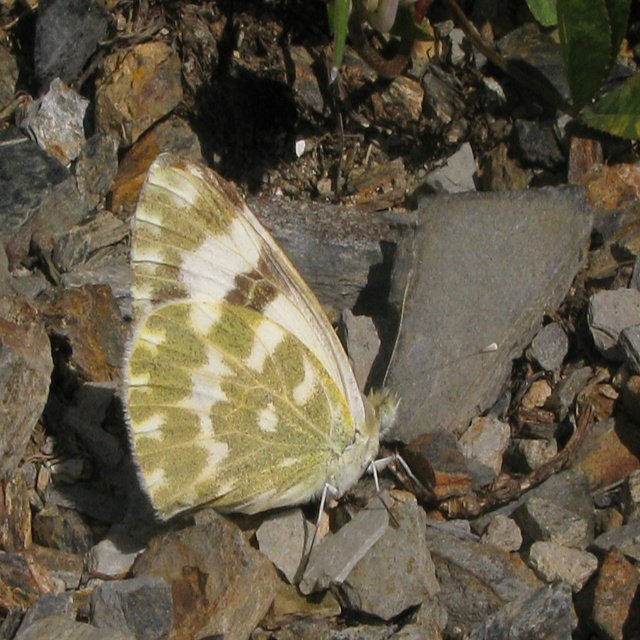Butterfly: (121, 152, 500, 574)
